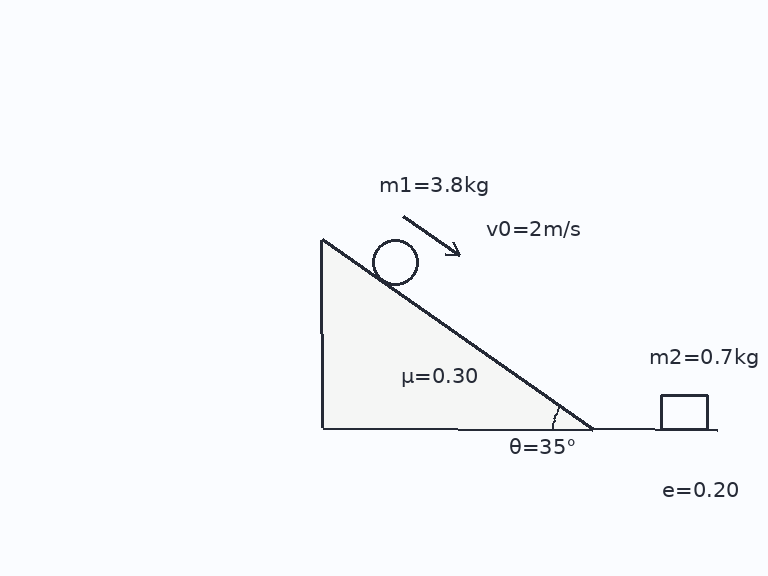ball: (370, 237, 420, 287)
block: (659, 393, 709, 431)
ramp: (320, 237, 595, 431)
